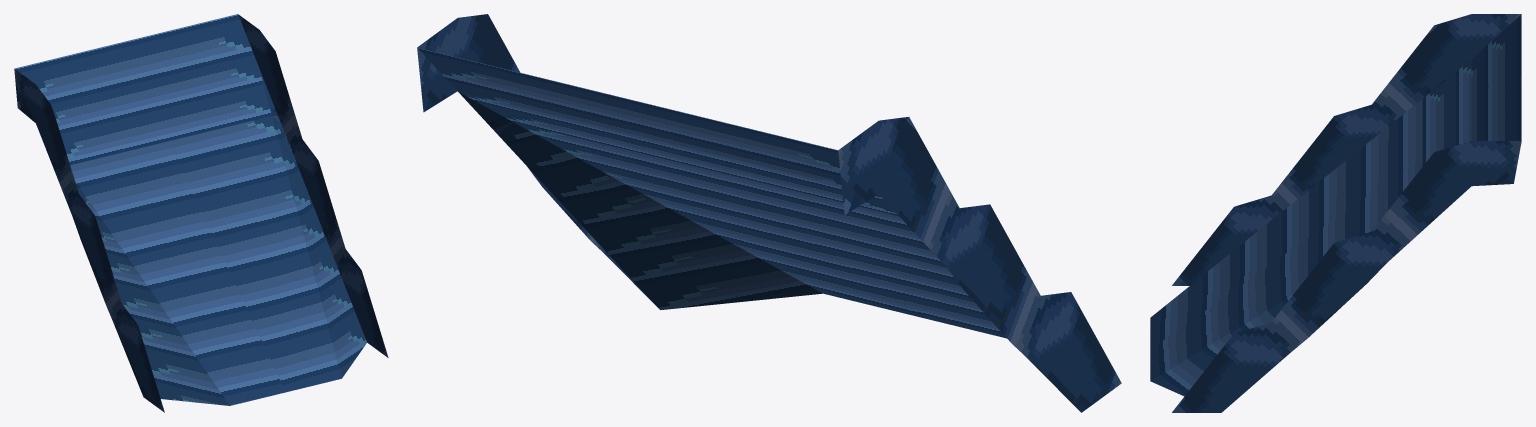
3 views of the same model, side by side, from view 1: azimuth 30°, elevation 25°; view 2: azimuth 150°, elevation 25°; view 3: azimuth 270°, elevation 25° (orthographic). The views are drawn at different scales.
Visible parts, largest first — view 1: polygon0; view 2: polygon0; view 3: polygon0.
Part boxes in pixels (bbox=[...]): polygon0: bbox=[14, 14, 388, 412]; polygon0: bbox=[417, 14, 1121, 412]; polygon0: bbox=[1150, 14, 1521, 412].
Size of the model in its own units: 6 by 6 by 7.42.
Materials: 1 (1 with a texture image).
